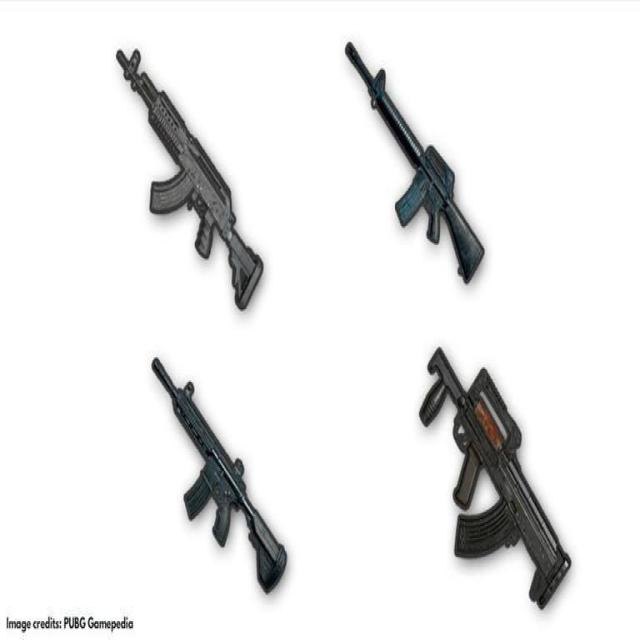weapon: (112, 42, 266, 322), (418, 347, 572, 625), (148, 351, 301, 601), (342, 38, 489, 297)
